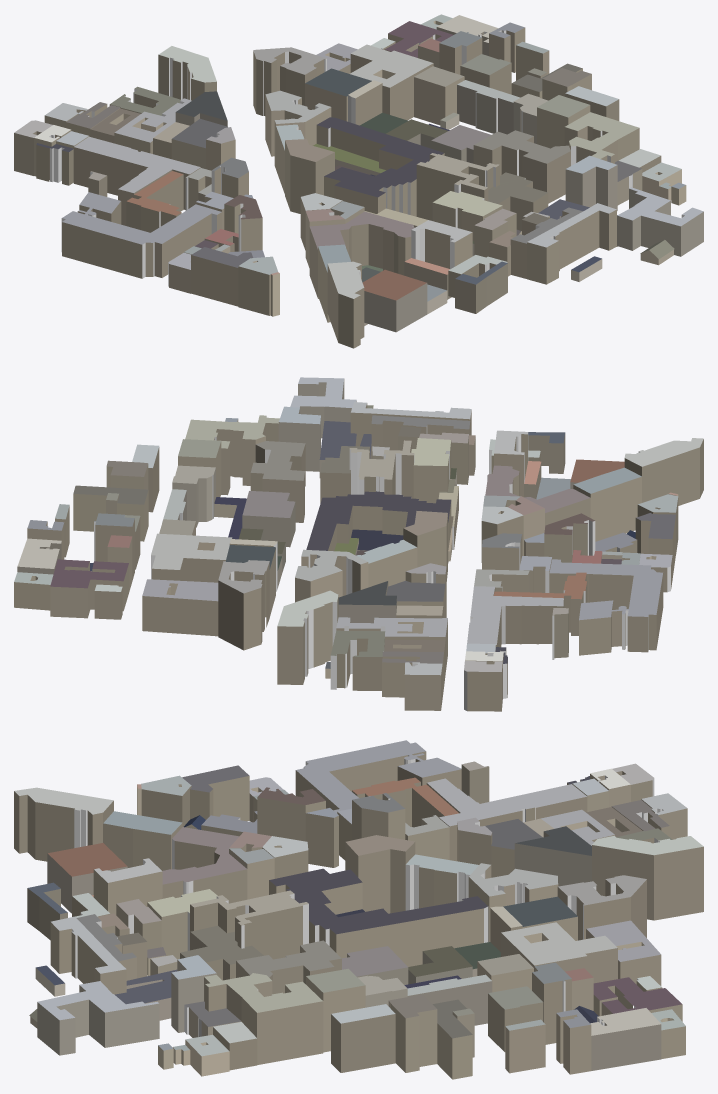
3 renders of one model, top to bottom at view 1: azimuth 30°, elevation 25°; view 2: azimuth 150°, elevation 25°; view 3: azimuth 270°, elevation 25°, orthographic. The views are drawn at different scales.
Visible parts, largest first — view 1: tuile; view 2: tuile; view 3: tuile.
Boxes of the visible parts, x1,y1,x2,y2 form: tuile: (14, 14, 703, 348); tuile: (14, 377, 703, 711); tuile: (14, 740, 703, 1079).
Size of the model in its own units: 288 by 40.18 by 274.
